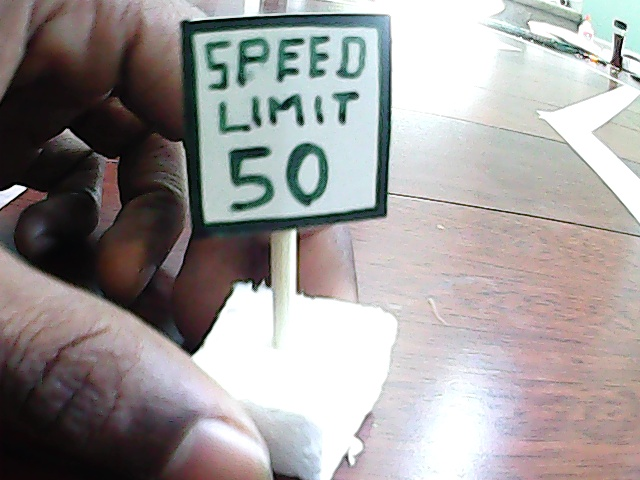speed_50: (172, 19, 417, 465)
